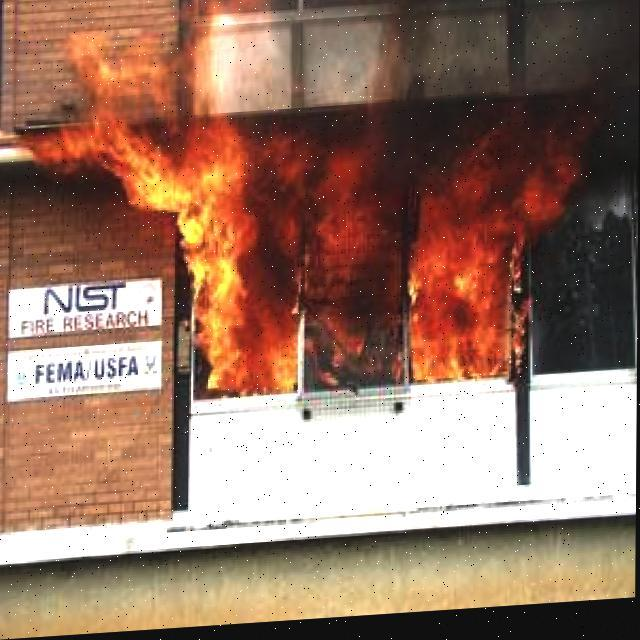Fire: (39, 0, 586, 438)
